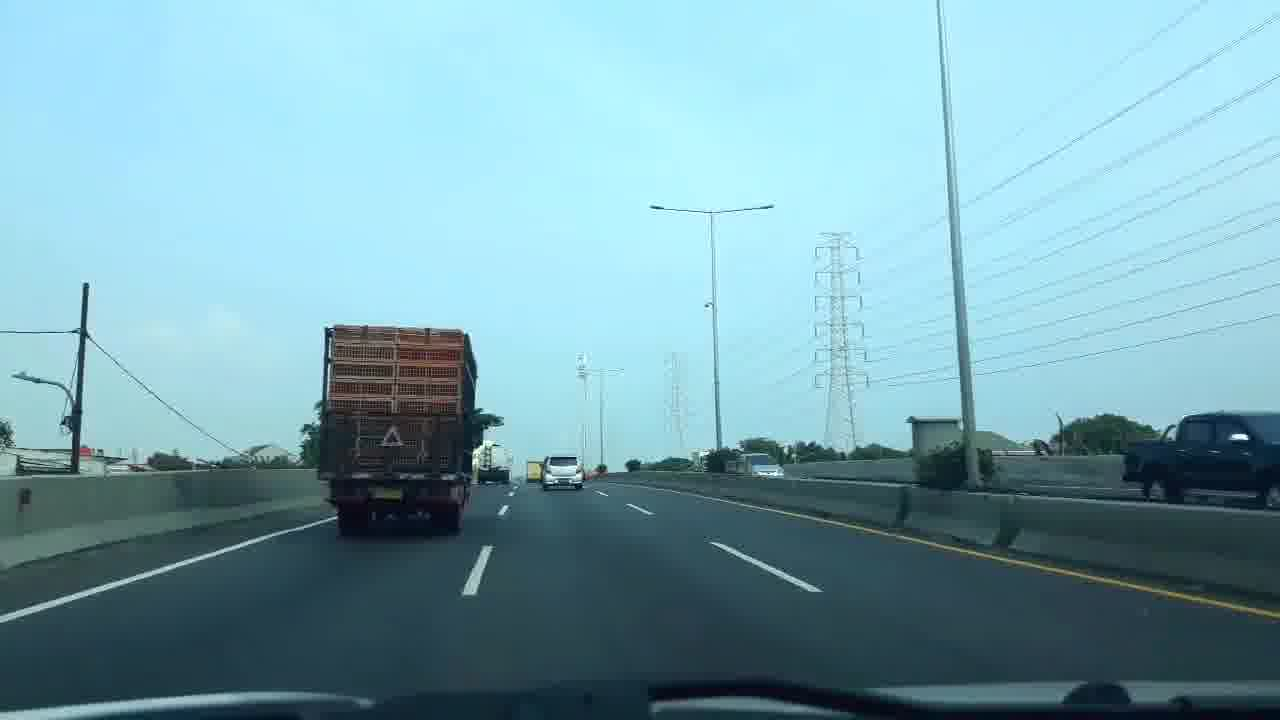plate_positive: (371, 488, 404, 500), (558, 479, 569, 484)
